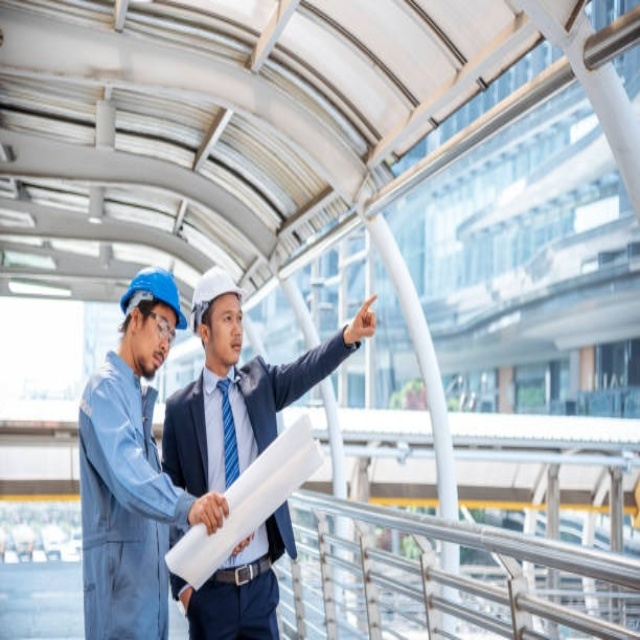Gafas: (144, 307, 178, 347)
Sin_gafas: (210, 306, 244, 326)
Sin_guantes: (347, 287, 382, 342), (190, 489, 230, 533)
Sin_mascara: (143, 351, 168, 376), (224, 333, 243, 358)
